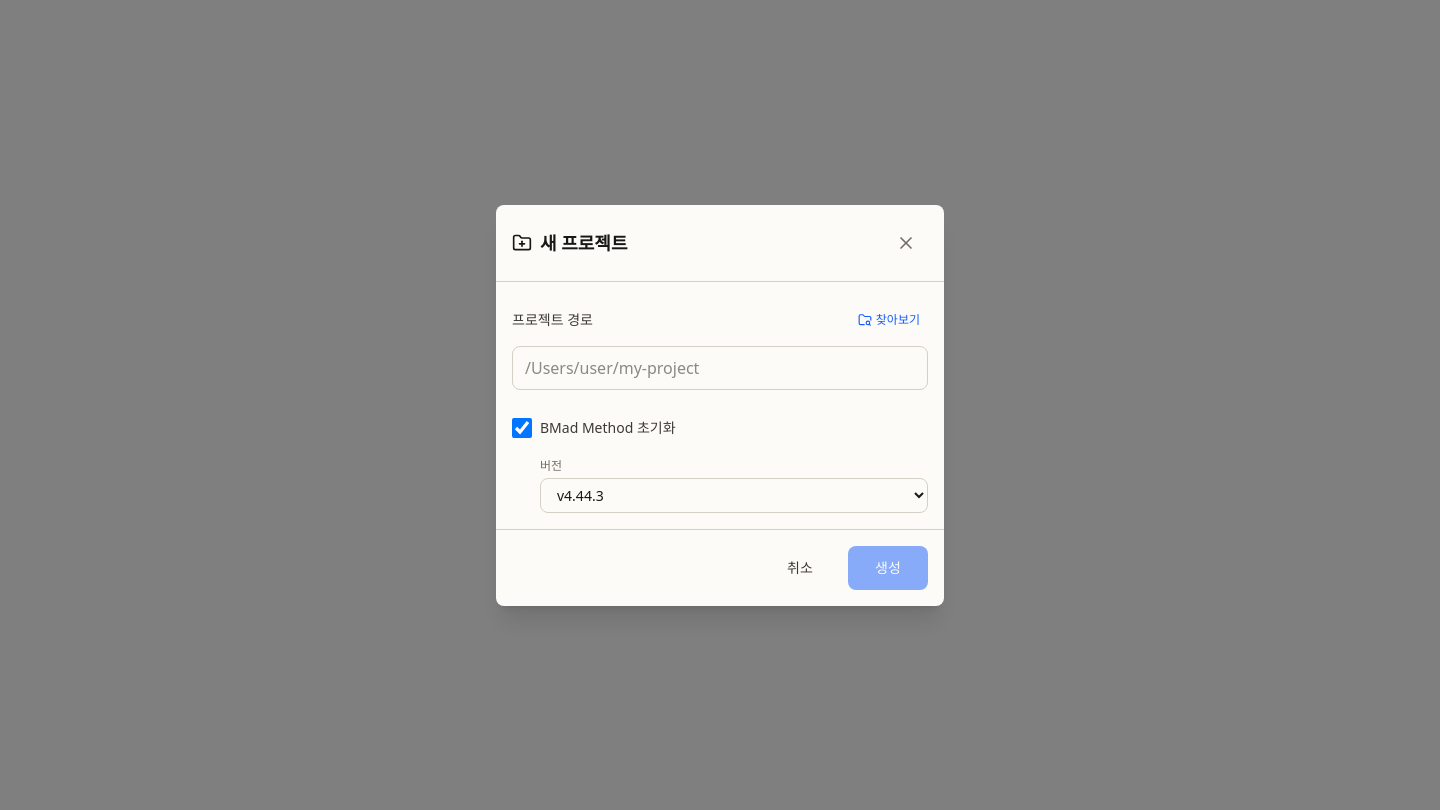
Scenario: NewProjectDialog › Directory Browser Integration (Story 34.2) › opens the directory browser dialog on Browse click (AC1)
Step 1. Click the button with aria-label "디렉토리 찾아보기" → (889, 320), box [850, 298, 928, 342]
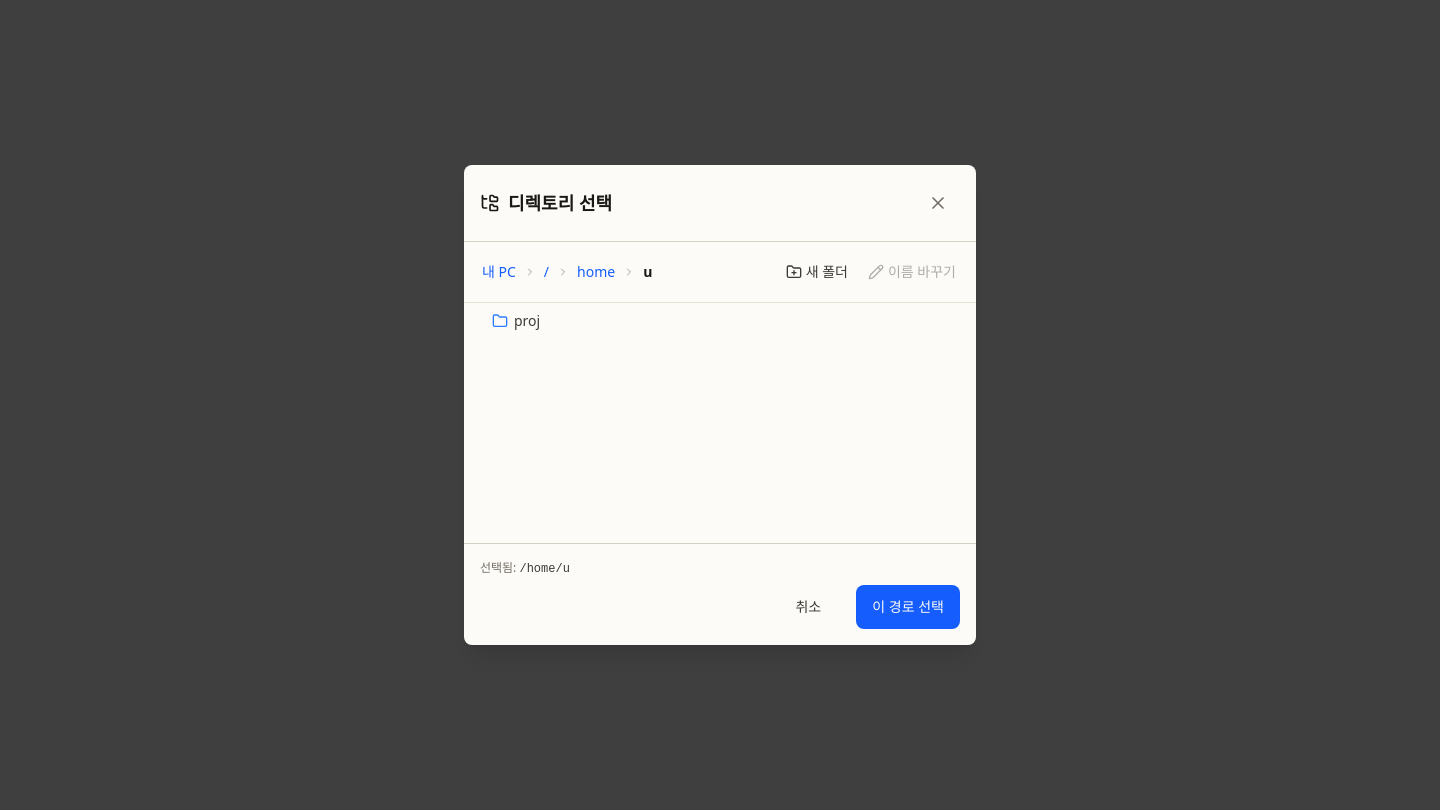
Expected: the heading "디렉토리 선택" is shown, [480, 189, 612, 217]
Expected: the text "proj" is shown, [514, 311, 540, 331]
